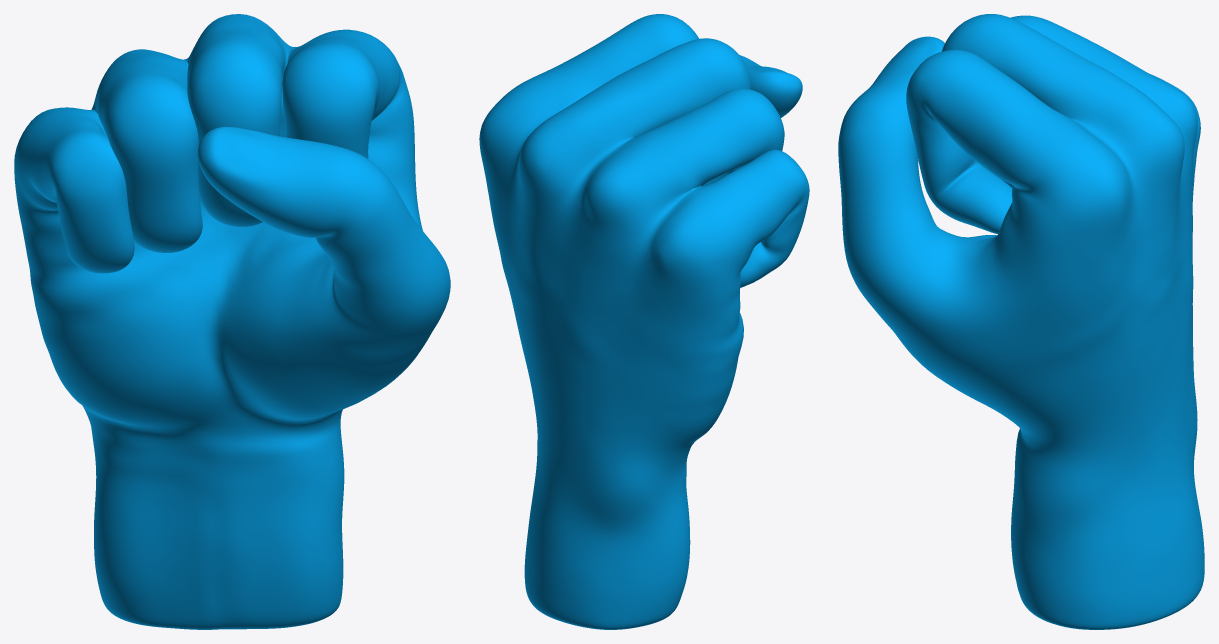
Rendered from punch.fbx.
The picture shows the model from 3 angles, left to right: view 1: azimuth 30°, elevation 25°; view 2: azimuth 150°, elevation 25°; view 3: azimuth 270°, elevation 25°; orthographic projection. The views are drawn at different scales.
Visible parts, largest first — view 1: node_id286; view 2: node_id286; view 3: node_id286.
Boxes of the visible parts, box(x1,y1,x2,y2) form: node_id286: box(14, 14, 450, 629); node_id286: box(479, 14, 809, 629); node_id286: box(838, 14, 1204, 629).
Size of the model in its own units: 0.3112 by 0.512 by 0.3071.
Materials: 1 (1 with a texture image).
